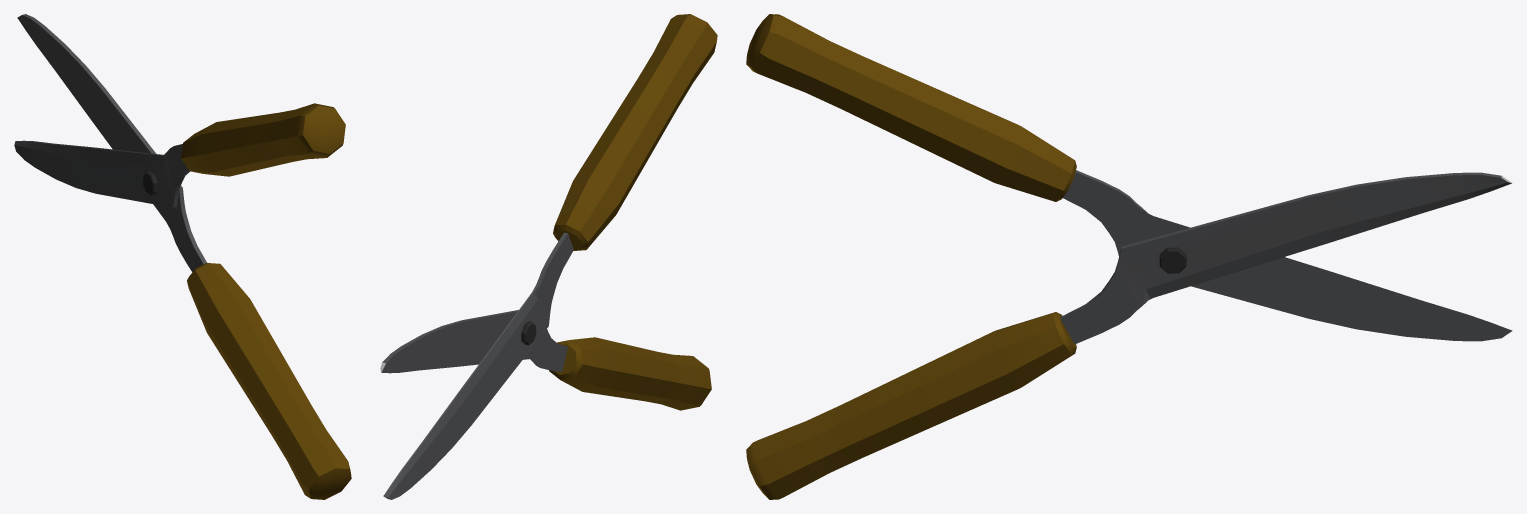
The model's file is TijeraRota.fbx.
3 renders of one model, left to right at view 1: azimuth 30°, elevation 25°; view 2: azimuth 150°, elevation 25°; view 3: azimuth 270°, elevation 25°, orthographic. The views are drawn at different scales.
Visible parts, largest first — view 1: TijeraRotaDer, TijeraRotaIzq; view 2: TijeraRotaIzq, TijeraRotaDer; view 3: TijeraRotaDer, TijeraRotaIzq.
Part boxes in pixels (x1,y1,x2,y2): TijeraRotaDer: (17, 14, 351, 499); TijeraRotaIzq: (14, 103, 345, 207); TijeraRotaIzq: (383, 14, 717, 499); TijeraRotaDer: (380, 310, 711, 410); TijeraRotaDer: (746, 172, 1512, 499); TijeraRotaIzq: (746, 14, 1512, 341).
Size of the model in its own units: 6.05 by 42.08 by 61.05.
